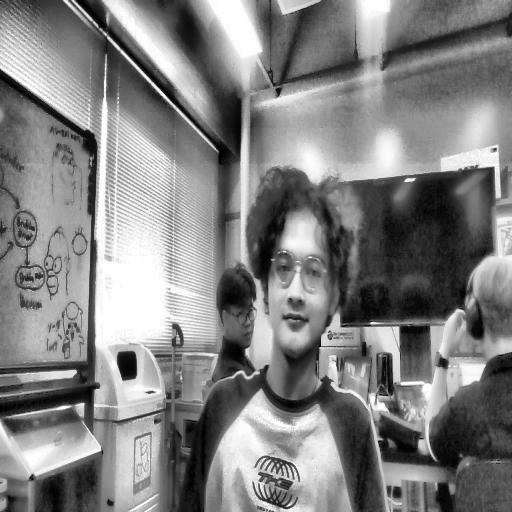Daifuku: (248, 169, 362, 353)
Not Daifuku: (465, 266, 512, 360), (215, 271, 257, 352)
